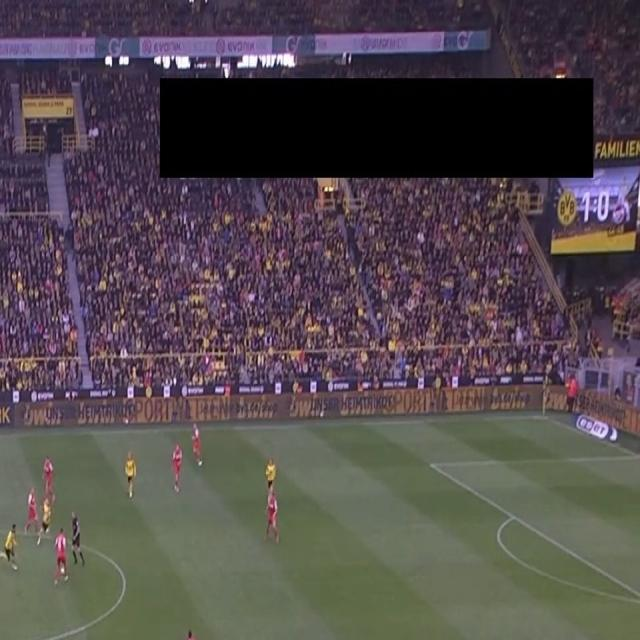ball: (59, 564, 65, 578)
